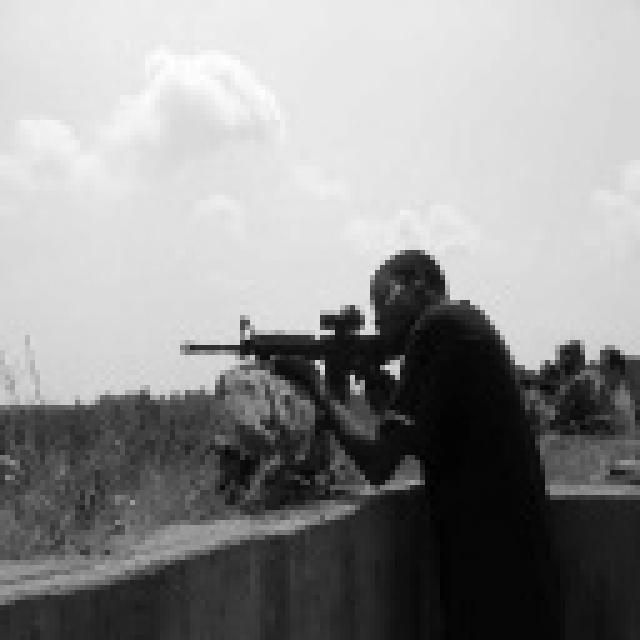Rifle: (165, 278, 452, 452)
